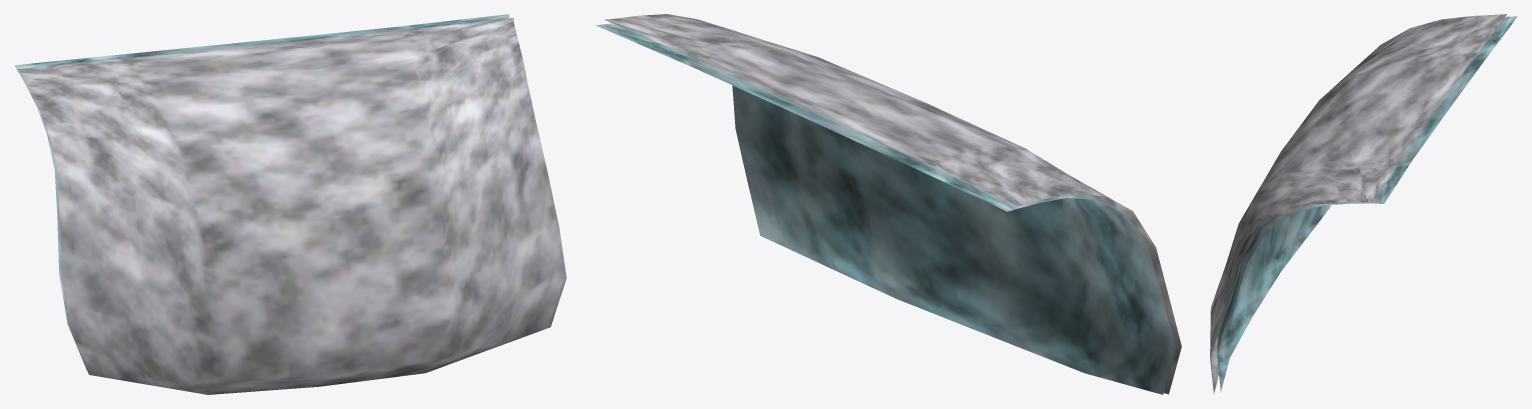
File: CB_NEWPLAYSURFACE_CB_WATERFALLS07.fbx
3 renders of one model, left to right at view 1: azimuth 30°, elevation 25°; view 2: azimuth 150°, elevation 25°; view 3: azimuth 270°, elevation 25°, orthographic. The views are drawn at different scales.
Visible parts, largest first — view 1: CB_NEWPLAYSURFACE_CB_WATERFALLS07; view 2: CB_NEWPLAYSURFACE_CB_WATERFALLS07; view 3: CB_NEWPLAYSURFACE_CB_WATERFALLS07.
Part boxes in pixels (x1,y1,x2,y2): CB_NEWPLAYSURFACE_CB_WATERFALLS07: (14, 14, 566, 394); CB_NEWPLAYSURFACE_CB_WATERFALLS07: (595, 14, 1181, 394); CB_NEWPLAYSURFACE_CB_WATERFALLS07: (1210, 14, 1517, 393).
Bounding box in the file's own units: 105572 × 54747 × 65483.
Materials: 2 (2 with a texture image).
